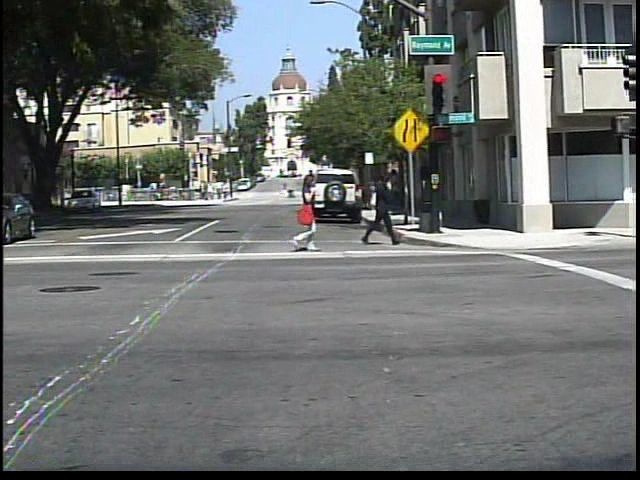person: (358, 167, 406, 249), (289, 167, 330, 251), (288, 185, 299, 202)
